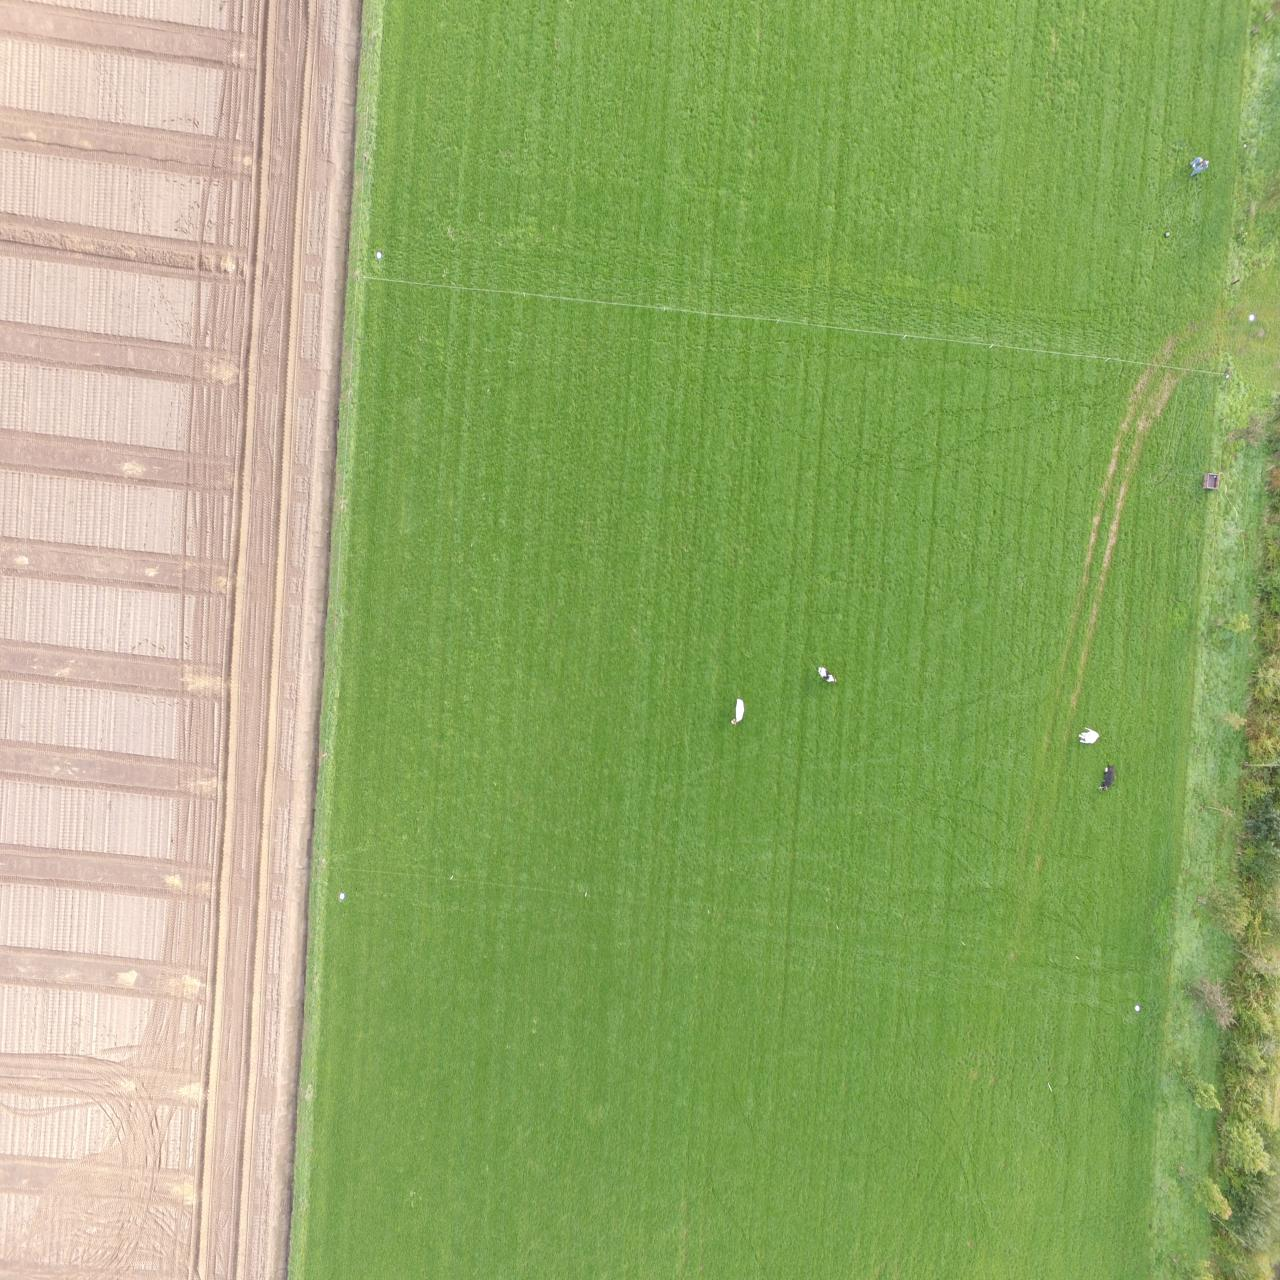cow: (730, 695, 745, 728), (1098, 763, 1116, 791), (817, 663, 838, 686), (1075, 724, 1098, 744)
